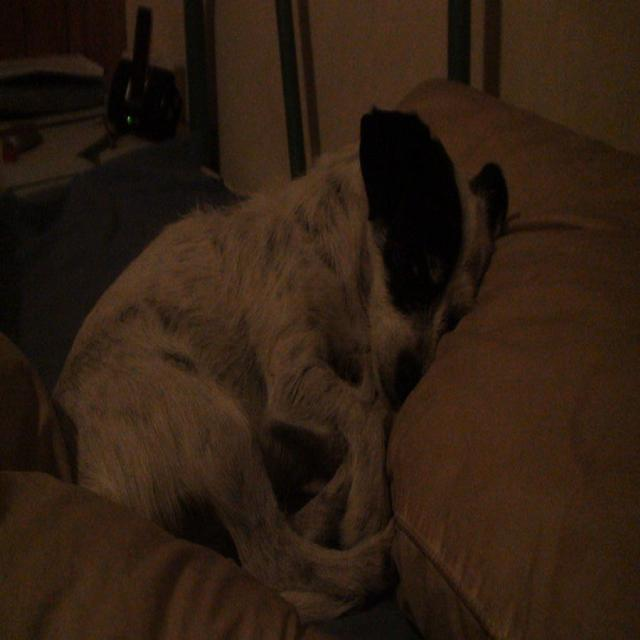Dog: (25, 41, 521, 611)
